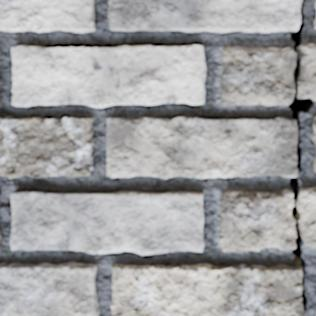brick: (11, 191, 203, 254), (12, 45, 205, 106), (107, 116, 296, 177), (112, 264, 304, 315), (109, 0, 301, 31), (0, 117, 92, 177), (0, 262, 98, 315), (0, 0, 95, 32), (312, 115, 315, 171), (0, 229, 1, 249)
broken_brick: (218, 188, 294, 252), (219, 46, 294, 106), (300, 186, 315, 248), (299, 43, 315, 100)
crack: (287, 2, 315, 313), (107, 8, 115, 15)
